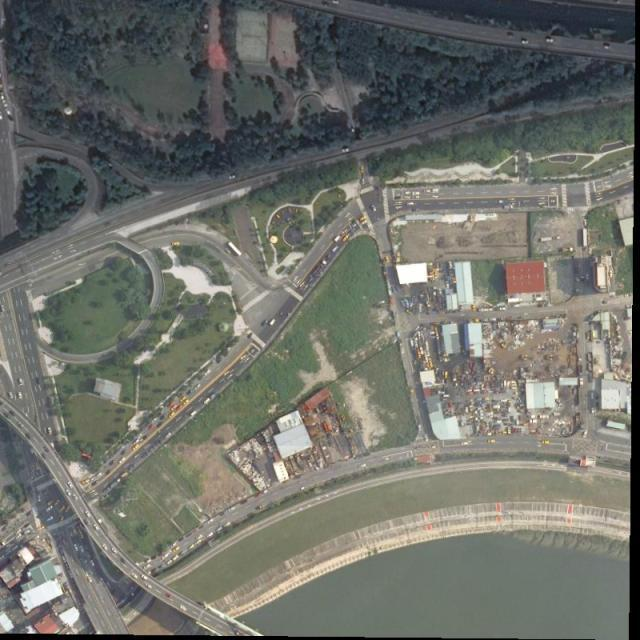vehicle: (228, 242, 242, 257), (164, 432, 172, 440), (582, 430, 589, 438), (342, 235, 349, 242), (334, 235, 341, 242), (332, 246, 339, 253), (59, 506, 66, 513), (25, 433, 32, 440), (270, 318, 276, 326), (342, 147, 350, 153), (46, 501, 54, 507), (194, 384, 202, 390), (206, 518, 214, 524), (195, 535, 203, 541), (9, 391, 14, 400), (370, 206, 377, 212), (15, 529, 22, 535), (103, 545, 110, 551), (198, 376, 205, 382), (103, 488, 110, 494), (151, 418, 158, 424), (119, 458, 126, 464), (68, 571, 74, 578), (23, 523, 30, 529), (207, 532, 214, 538), (179, 550, 186, 556), (401, 300, 406, 308), (358, 464, 366, 469), (85, 510, 90, 518), (590, 391, 594, 400), (590, 406, 594, 415), (225, 248, 231, 254), (112, 548, 118, 554), (146, 582, 152, 588), (47, 506, 53, 512), (10, 411, 16, 417), (18, 422, 24, 428), (171, 242, 180, 246), (169, 412, 175, 418), (180, 397, 186, 403), (184, 399, 190, 405), (187, 390, 193, 396), (42, 453, 48, 459), (166, 559, 172, 565), (173, 546, 179, 552), (229, 506, 235, 512), (189, 544, 195, 550), (424, 434, 429, 441), (522, 39, 529, 44), (131, 574, 138, 579), (54, 499, 59, 506), (47, 517, 54, 522), (66, 506, 71, 513), (106, 470, 113, 475), (151, 569, 158, 574), (144, 564, 151, 569), (45, 447, 50, 454), (68, 482, 73, 489), (254, 494, 261, 499), (170, 543, 177, 548), (542, 441, 550, 445), (360, 216, 366, 221), (361, 221, 367, 226), (230, 173, 236, 178), (17, 534, 22, 540), (85, 520, 90, 526), (94, 524, 99, 530), (122, 559, 127, 565), (142, 575, 148, 580), (181, 606, 187, 611), (205, 370, 210, 376), (142, 454, 148, 459), (150, 447, 155, 453), (156, 442, 162, 447), (122, 450, 128, 455), (129, 465, 135, 470), (161, 414, 166, 420), (133, 445, 139, 450), (162, 554, 168, 559), (66, 490, 71, 496), (73, 494, 78, 500), (34, 536, 40, 541), (173, 555, 178, 561), (205, 398, 210, 404), (262, 490, 268, 495), (224, 522, 230, 527), (216, 527, 222, 532), (546, 38, 553, 42), (418, 424, 422, 431), (166, 594, 173, 598), (61, 516, 65, 523), (48, 427, 52, 434), (18, 392, 22, 399), (38, 526, 45, 530), (1, 305, 5, 312), (171, 406, 178, 410), (110, 461, 115, 466), (158, 422, 163, 427), (149, 426, 154, 431), (177, 406, 182, 411), (97, 473, 102, 478), (580, 378, 583, 386), (386, 256, 390, 262), (418, 352, 422, 358), (308, 460, 312, 466), (413, 191, 419, 195), (1, 555, 5, 561), (38, 494, 41, 502), (78, 526, 82, 532), (80, 546, 84, 552), (75, 545, 79, 551), (62, 556, 66, 562), (82, 480, 88, 484), (604, 46, 611, 49), (413, 196, 420, 199), (19, 379, 22, 386), (488, 440, 495, 443), (13, 546, 18, 550), (88, 577, 92, 582), (134, 440, 138, 445), (122, 474, 127, 478), (146, 559, 151, 563), (25, 530, 30, 534), (93, 482, 98, 486), (332, 1, 338, 4), (425, 190, 431, 193), (1, 111, 3, 120), (430, 446, 436, 449), (91, 560, 94, 566), (462, 442, 468, 445), (6, 414, 10, 418), (509, 34, 514, 37), (425, 357, 428, 362), (430, 362, 433, 367), (610, 271, 612, 278), (473, 305, 475, 311), (81, 534, 84, 538), (1, 272, 2, 275)
